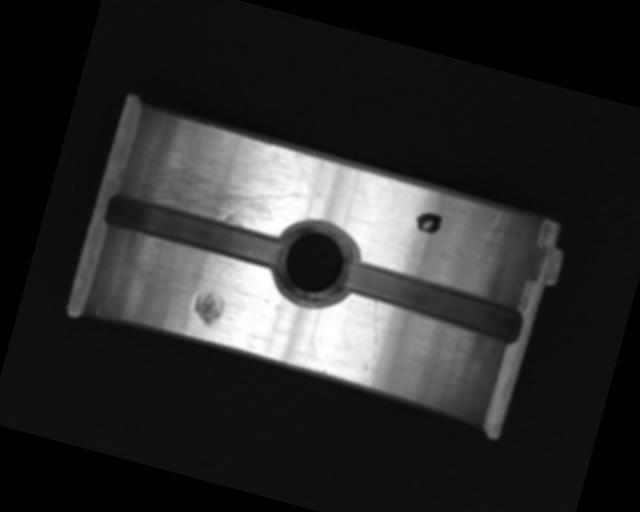blot: (413, 208, 444, 236)
bruise: (189, 287, 227, 327)
gap: (335, 257, 528, 347), (102, 190, 288, 274)
hole: (263, 212, 363, 316)
nick: (360, 300, 391, 360)
scratch: (119, 133, 307, 241)
